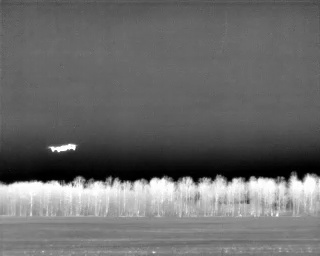DRONE: (44, 138, 81, 157)
